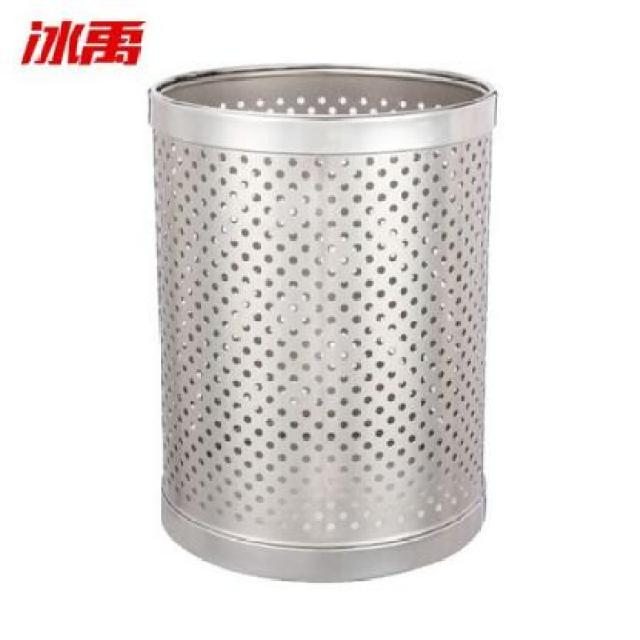dustbin: (143, 59, 502, 593)
